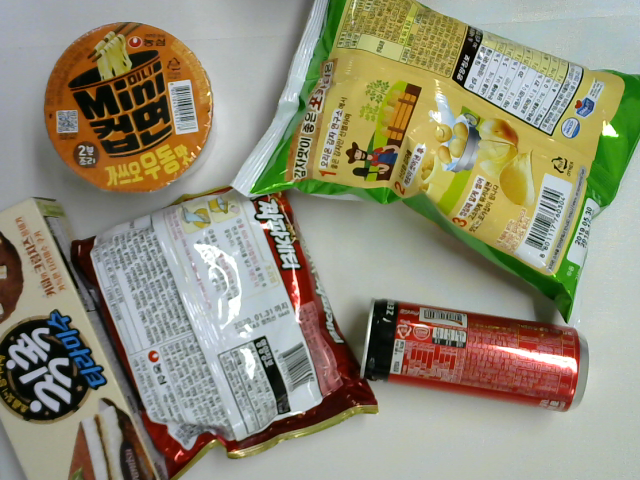Chicchok_Tiramisu: (1, 197, 163, 480)
Coca_Cola_Zero_Can_250ml: (359, 299, 592, 414)
Pocachip_Onion: (228, 1, 640, 328)
Sichuan_Chapaghetti: (70, 187, 379, 479)
Udongmini: (41, 21, 218, 197)
